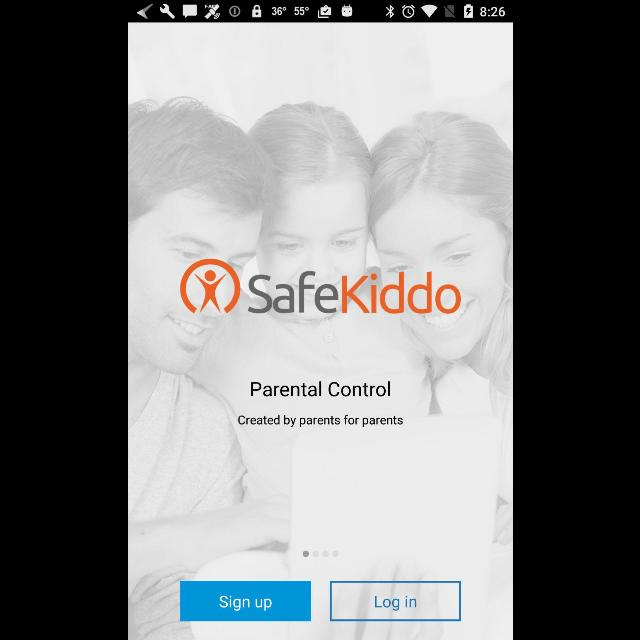backgroundimage: (128, 22, 512, 640)
image: (179, 258, 461, 314)
pageindicator: (302, 550, 338, 558)
text: (250, 380, 390, 398), (238, 414, 402, 428)
textbutton: (330, 580, 460, 622), (180, 581, 310, 621)
uppertaskbar: (128, 1, 512, 23)
